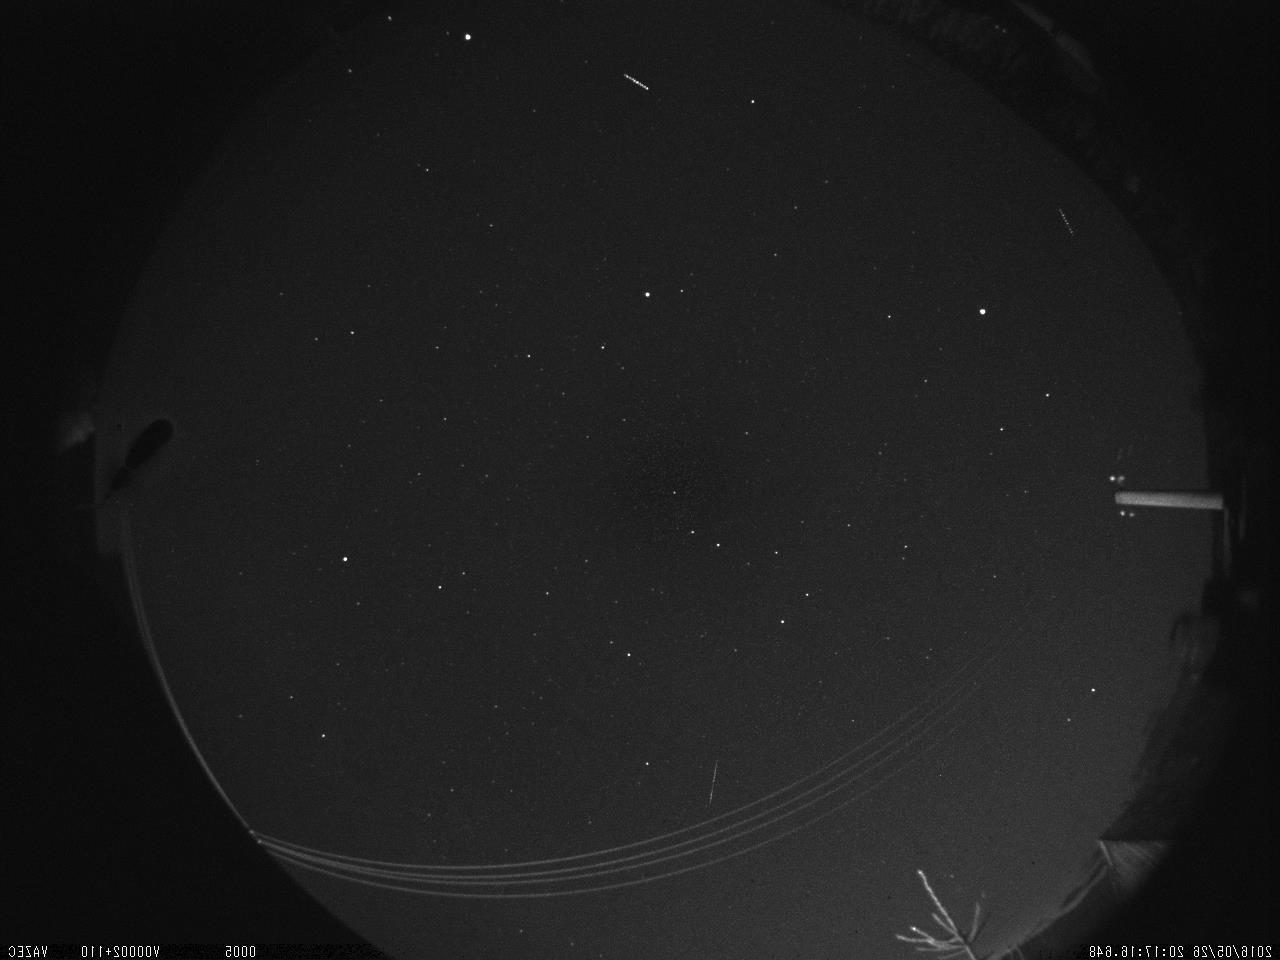meteor: (702, 756, 727, 813)
satelite: (1054, 201, 1081, 243), (619, 68, 654, 97)
